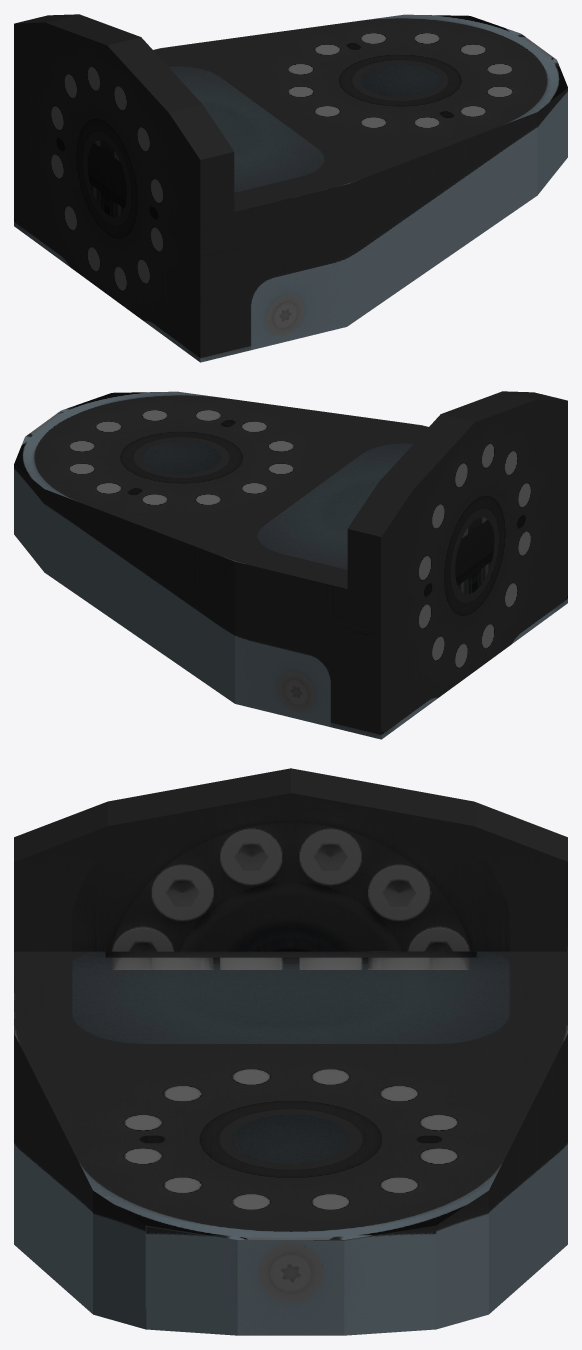
File: hip.obj
3 views of the same model, one above another, from view 1: azimuth 30°, elevation 25°; view 2: azimuth 150°, elevation 25°; view 3: azimuth 270°, elevation 25° (orthographic). The views are drawn at different scales.
Size of the model in its own units: 0.1016 by 0.056 by 0.076.
